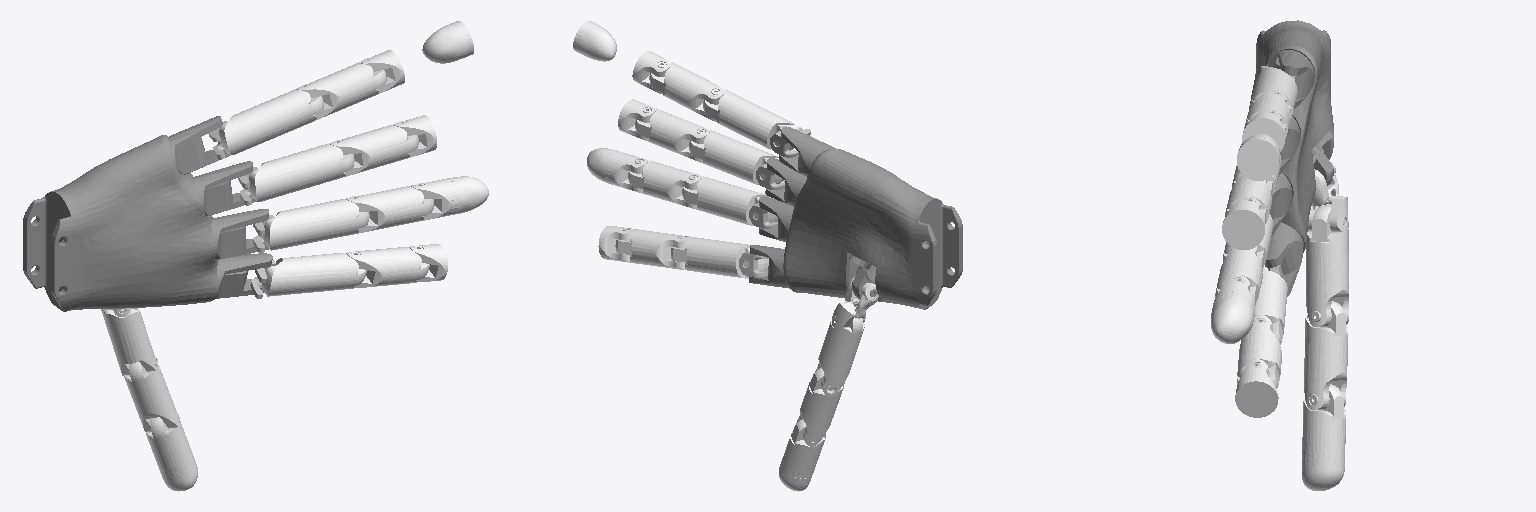
--- Facts derived from the render (not from the file) ---
Views: 3 orthographic renders of the robot side by side, from view 1: azimuth 30°, elevation 25°; view 2: azimuth 150°, elevation 25°; view 3: azimuth 270°, elevation 25°.
Model D5_left_hands_tips with 26 links and 25 joints (20 revolute, 5 fixed), rooted at base_link, posed all joints at 0.
Visible links, largest first — view 1: base_link, PIPMCP_2rd_pinky, PIPMCP_2rd_ring, PIPMCP_2rd_middle, PIPMCP_2rd_index, DIP_pinky, DIP_ring, DIP_middle, DIP_index, CMC_2rd, MCP_thumb, IP_thumb (+7 smaller); view 2: base_link, PIPMCP_2rd_pinky, PIPMCP_2rd_ring, PIPMCP_2rd_index, PIPMCP_2rd_middle, CMC_2rd, DIP_pinky, DIP_ring, DIP_middle, DIP_index, MCP_thumb, fingertip_pinky (+8 smaller); view 3: base_link, CMC_2rd, MCP_thumb, IP_thumb, tipmount_index, DIP_index, fingertip_middle, tipmount_ring, fingertip_pinky, fingertip_thumb, PIPMCP_2rd_index, CMC_joint (+5 smaller).
Link boxes in pixels (bbox=[...]): base_link: bbox=[23, 116, 272, 311]; PIPMCP_2rd_pinky: bbox=[219, 89, 323, 154]; PIPMCP_2rd_ring: bbox=[249, 144, 354, 201]; PIPMCP_2rd_middle: bbox=[263, 199, 369, 250]; PIPMCP_2rd_index: bbox=[262, 253, 366, 296]; DIP_pinky: bbox=[296, 63, 386, 120]; DIP_ring: bbox=[329, 125, 418, 176]; DIP_middle: bbox=[346, 186, 433, 233]; DIP_index: bbox=[346, 247, 429, 287]; CMC_2rd: bbox=[101, 308, 157, 375]; MCP_thumb: bbox=[124, 357, 180, 431]; IP_thumb: bbox=[146, 413, 191, 468]; base_link: bbox=[749, 126, 962, 309]; PIPMCP_2rd_pinky: bbox=[703, 89, 802, 150]; PIPMCP_2rd_ring: bbox=[689, 130, 783, 184]; PIPMCP_2rd_index: bbox=[671, 237, 768, 278]; PIPMCP_2rd_middle: bbox=[682, 176, 777, 225]; CMC_2rd: bbox=[815, 316, 864, 395]; DIP_pinky: bbox=[649, 62, 723, 121]; DIP_ring: bbox=[635, 108, 709, 162]; DIP_middle: bbox=[628, 160, 701, 209]; DIP_index: bbox=[615, 229, 689, 269]; MCP_thumb: bbox=[797, 368, 844, 446]; fingertip_pinky: bbox=[573, 21, 616, 61]; base_link: bbox=[1249, 20, 1333, 296]; CMC_2rd: bbox=[1306, 205, 1348, 326]; MCP_thumb: bbox=[1304, 301, 1347, 410]; IP_thumb: bbox=[1302, 384, 1345, 452]; tipmount_index: bbox=[1235, 359, 1278, 417]; DIP_index: bbox=[1237, 315, 1281, 388]; fingertip_middle: bbox=[1211, 292, 1254, 343]; tipmount_ring: bbox=[1222, 196, 1264, 249]; fingertip_pinky: bbox=[1237, 134, 1279, 180]; fingertip_thumb: bbox=[1302, 451, 1344, 490]; PIPMCP_2rd_index: bbox=[1255, 266, 1287, 344]; CMC_joint: bbox=[1308, 160, 1348, 231].
Bounding box of the posed robot: 0.1963 × 0.048 × 0.1903 m (x, y, z).
Meshes: 26 distinct files referenced, 24 mesh visuals loaded (24 binary STL); not drawn: 2 (reference not matched to a file when rendering).

The robot description file, URDF, robot "D5_left_hands_tips":
<?xml version="1.0" encoding="utf-8"?>
<!-- This URDF was automatically created by SolidWorks to URDF Exporter! Originally created by Stephen Brawner ([email redacted]) 
     Commit Version: 1.6.0-4-g7f85cfe  Build Version: 1.6.7995.38578
     For more information, please see http://wiki.ros.org/sw_urdf_exporter -->
<robot
  name="D5_left_hands_tips">
  <link
    name="base_link">
    <inertial>
      <origin
        xyz="0.0362815208782069 -0.00305526336798289 -0.000126521740145622"
        rpy="0 0 0" />
      <mass
        value="0.100729267699622" />
      <inertia
        ixx="3.4902559468521E-05"
        ixy="3.96108132401248E-06"
        ixz="3.90580885663322E-06"
        iyy="8.05745954287177E-05"
        iyz="-1.48906206110741E-06"
        izz="5.43169882491714E-05" />
    </inertial>
    <visual>
      <origin
        xyz="0 0 0"
        rpy="0 0 0" />
      <geometry>
        <mesh
          filename="meshes/base_link.STL" />
      </geometry>
      <material
        name="">
        <color
          rgba="0.627450980392157 0.627450980392157 0.627450980392157 1" />
      </material>
    </visual>
    <collision>
      <origin
        xyz="0 0 0"
        rpy="0 0 0" />
      <geometry>
        <mesh
          filename="meshes/base_link.STL" />
      </geometry>
    </collision>
  </link>
  <link
    name="CMC_joint">
    <inertial>
      <origin
        xyz="0.00771280035472914 -0.00202188987758286 0.00202035726169397"
        rpy="0 0 0" />
      <mass
        value="0.00125815886507591" />
      <inertia
        ixx="3.83821369264559E-08"
        ixy="3.28880830342143E-09"
        ixz="-1.0096366741834E-08"
        iyy="6.90654218569032E-08"
        iyz="4.89903077152849E-09"
        izz="6.44064252041759E-08" />
    </inertial>
    <visual>
      <origin
        xyz="0 0 0"
        rpy="0 0 0" />
      <geometry>
        <mesh
          filename="meshes/CMC_joint.STL" />
      </geometry>
      <material
        name="">
        <color
          rgba="0.96078431372549 0.96078431372549 0.964705882352941 1" />
      </material>
    </visual>
    <collision>
      <origin
        xyz="0 0 0"
        rpy="0 0 0" />
      <geometry>
        <mesh
          filename="meshes/CMC_joint.STL" />
      </geometry>
    </collision>
  </link>
  <joint
    name="F1J1"
    type="revolute">
    <origin
      xyz="0.028712 0.0085244 -0.020575"
      rpy="1.5708 0.89647 1.2039" />
    <parent
      link="base_link" />
    <child
      link="CMC_joint" />
    <axis
      xyz="0 0.090031 -0.99594" />
    <limit
      lower="-1.83"
      upper="0.52"
      effort="10000"
      velocity="10000" />
  </joint>
  <link
    name="CMC_2rd">
    <inertial>
      <origin
        xyz="0.0134227843587859 -0.00293695006906855 -0.0066136566216464"
        rpy="0 0 0" />
      <mass
        value="0.00526832309670019" />
      <inertia
        ixx="1.98050588059674E-07"
        ixy="-2.05321303906682E-09"
        ixz="1.3634716164521E-07"
        iyy="5.57537669280275E-07"
        iyz="5.1049690269548E-09"
        izz="4.9078792338695E-07" />
    </inertial>
    <visual>
      <origin
        xyz="0 0 0"
        rpy="0 0 0" />
      <geometry>
        <mesh
          filename="meshes/CMC_2rd.STL" />
      </geometry>
      <material
        name="">
        <color
          rgba="0.96078431372549 0.96078431372549 0.964705882352941 1" />
      </material>
    </visual>
    <collision>
      <origin
        xyz="0 0 0"
        rpy="0 0 0" />
      <geometry>
        <mesh
          filename="meshes/CMC_2rd.STL" />
      </geometry>
    </collision>
  </link>
  <joint
    name="F1J2"
    type="revolute">
    <origin
      xyz="0.0156801041480007 -0.00266138390252596 0.00541134550383846"
      rpy="0.00909459878463471 -0.660505072285366 -0.556810887711753" />
    <parent
      link="CMC_joint" />
    <child
      link="CMC_2rd" />
    <axis
      xyz="0 -1 0" />
    <limit
      lower="-0.52"
      upper="1.83"
      effort="10000"
      velocity="10000" />
  </joint>
  <link
    name="MCP_thumb">
    <inertial>
      <origin
        xyz="0.012784040671115 -0.00137015992859594 1.61315218326942E-05"
        rpy="0 0 0" />
      <mass
        value="0.00451783539729189" />
      <inertia
        ixx="1.22995967486248E-07"
        ixy="-9.44472915785571E-10"
        ixz="3.59348384900288E-10"
        iyy="3.89453067833898E-07"
        iyz="-1.8018016259836E-11"
        izz="3.80195847856636E-07" />
    </inertial>
    <visual>
      <origin
        xyz="0 0 0"
        rpy="0 0 0" />
      <geometry>
        <mesh
          filename="meshes/MCP_thumb.STL" />
      </geometry>
      <material
        name="">
        <color
          rgba="0.96078431372549 0.96078431372549 0.964705882352941 1" />
      </material>
    </visual>
    <collision>
      <origin
        xyz="0 0 0"
        rpy="0 0 0" />
      <geometry>
        <mesh
          filename="meshes/MCP_thumb.STL" />
      </geometry>
    </collision>
  </link>
  <joint
    name="F1J3"
    type="revolute">
    <origin
      xyz="0.0307049994928983 -0.00195849650384492 -0.0125392357745206"
      rpy="0.338193019740776 0.327653658937842 7.00736436970164E-05" />
    <parent
      link="CMC_2rd" />
    <child
      link="MCP_thumb" />
    <axis
      xyz="0 0 1" />
    <limit
      lower="-0.52"
      upper="1.83"
      effort="10000"
      velocity="10000" />
  </joint>
  <link
    name="IP_thumb">
    <inertial>
      <origin
        xyz="0.00873337128119034 -0.00118432449167151 -0.000236666773561878"
        rpy="0 0 0" />
      <mass
        value="0.0032445920385937" />
      <inertia
        ixx="8.4530787773776E-08"
        ixy="-2.22176257496944E-09"
        ixz="3.79594409890328E-10"
        iyy="1.53933453096968E-07"
        iyz="-5.37818856246564E-11"
        izz="1.57557362953359E-07" />
    </inertial>
    <visual>
      <origin
        xyz="0 0 0"
        rpy="0 0 0" />
      <geometry>
        <mesh
          filename="meshes/IP_thumb.STL" />
      </geometry>
      <material
        name="">
        <color
          rgba="0.96078431372549 0.96078431372549 0.964705882352941 1" />
      </material>
    </visual>
    <collision>
      <origin
        xyz="0 0 0"
        rpy="0 0 0" />
      <geometry>
        <mesh
          filename="meshes/IP_thumb.STL" />
      </geometry>
    </collision>
  </link>
  <joint
    name="F1J4"
    type="revolute">
    <origin
      xyz="0.0289946553564472 -0.000556723643987275 0.000250000742295495"
      rpy="0 0 -0.0191986217719388" />
    <parent
      link="MCP_thumb" />
    <child
      link="IP_thumb" />
    <axis
      xyz="0 0 1" />
    <limit
      lower="-0.52"
      upper="1.83"
      effort="10000"
      velocity="10000" />
  </joint>
  <link
    name="fingertip_thumb">
    <inertial>
      <origin
        xyz="-0.00660492594545073 -0.000291631263215519 -7.94781276167167E-06"
        rpy="0 0 0" />
      <mass
        value="0.00148518348317791" />
      <inertia
        ixx="3.70404843529793E-08"
        ixy="1.46330198216046E-09"
        ixz="-1.283566783338E-12"
        iyy="2.95488459076666E-08"
        iyz="-1.95685541571452E-13"
        izz="2.91781657468038E-08" />
    </inertial>
    <visual>
      <origin
        xyz="0 0 0"
        rpy="0 0 0" />
      <geometry>
        <mesh
          filename="meshes/fingertip_thumb.STL" />
      </geometry>
      <material
        name="">
        <color
          rgba="0.96078431372549 0.96078431372549 0.964705882352941 1" />
      </material>
    </visual>
    <collision>
      <origin
        xyz="0 0 0"
        rpy="0 0 0" />
      <geometry>
        <mesh
          filename="meshes/fingertip_thumb.STL" />
      </geometry>
    </collision>
  </link>
  <joint
    name="thumb_fingertip_fixed"
    type="fixed">
    <origin
      xyz="0.0292999997200636 -0.0010500018784308 -0.00025000011216555"
      rpy="0 0 0" />
    <parent
      link="IP_thumb" />
    <child
      link="fingertip_thumb" />
    <axis
      xyz="0 0 0" />
  </joint>
  <link
    name="MCP_joint_index">
    <inertial>
      <origin
        xyz="0.000320024323269191 -0.00132924326308777 3.05219430667136E-08"
        rpy="0 0 0" />
      <mass
        value="0.000379021582234346" />
      <inertia
        ixx="9.06820086814754E-09"
        ixy="-2.97884399301505E-09"
        ixz="-5.56403391714656E-14"
        iyy="9.76743833722641E-09"
        iyz="-3.4224766046932E-14"
        izz="8.49893777249095E-09" />
    </inertial>
    <visual>
      <origin
        xyz="0 0 0"
        rpy="0 0 0" />
      <geometry>
        <mesh
          filename="meshes/MCP_joint_index.STL" />
      </geometry>
      <material
        name="">
        <color
          rgba="0.796078431372549 0.796078431372549 0.796078431372549 1" />
      </material>
    </visual>
    <collision>
      <origin
        xyz="0 0 0"
        rpy="0 0 0" />
      <geometry>
        <mesh
          filename="meshes/MCP_joint_index.STL" />
      </geometry>
    </collision>
  </link>
  <joint
    name="F2J1"
    type="revolute">
    <origin
      xyz="0.091917 -0.0058701 -0.029434"
      rpy="0.21936 0.12347 -0.045393" />
    <parent
      link="base_link" />
    <child
      link="MCP_joint_index" />
    <axis
      xyz="0 0 -1" />
    <limit
      lower="-1.83"
      upper="0.52"
      effort="10000"
      velocity="10000" />
  </joint>
  <link
    name="PIPMCP_2rd_index">
    <inertial>
      <origin
        xyz="0.0174056341192974 -0.00607488621296758 7.02776518017936E-06"
        rpy="0 0 0" />
      <mass
        value="0.0065798714493092" />
      <inertia
        ixx="1.74652029779334E-07"
        ixy="-3.15692899359248E-08"
        ixz="-2.88427889362968E-10"
        iyy="9.45057757859522E-07"
        iyz="-1.65971648002229E-11"
        izz="9.50285944543775E-07" />
    </inertial>
    <visual>
      <origin
        xyz="0 0 0"
        rpy="0 0 0" />
      <geometry>
        <mesh
          filename="meshes/PIPMCP_2rd_index.STL" />
      </geometry>
      <material
        name="">
        <color
          rgba="0.96078431372549 0.96078431372549 0.964705882352941 1" />
      </material>
    </visual>
    <collision>
      <origin
        xyz="0 0 0"
        rpy="0 0 0" />
      <geometry>
        <mesh
          filename="meshes/PIPMCP_2rd_index.STL" />
      </geometry>
    </collision>
  </link>
  <joint
    name="F2J2"
    type="revolute">
    <origin
      xyz="0.00400000572579264 0.00220000016530783 0"
      rpy="0 0 0" />
    <parent
      link="MCP_joint_index" />
    <child
      link="PIPMCP_2rd_index" />
    <axis
      xyz="0 1 0" />
    <limit
      lower="-0.52"
      upper="0.52"
      effort="10000"
      velocity="10000" />
  </joint>
  <link
    name="DIP_index">
    <inertial>
      <origin
        xyz="0.0155093876252296 -0.00112279149412702 4.73871087898828E-06"
        rpy="0 0 0" />
      <mass
        value="0.00450885571504308" />
      <inertia
        ixx="1.2297817422711E-07"
        ixy="9.51788585338055E-09"
        ixz="3.42331455507894E-10"
        iyy="3.97109387856124E-07"
        iyz="-5.9649474143192E-12"
        izz="3.87914753042892E-07" />
    </inertial>
    <visual>
      <origin
        xyz="0 0 0"
        rpy="0 0 0" />
      <geometry>
        <mesh
          filename="meshes/DIP_index.STL" />
      </geometry>
      <material
        name="">
        <color
          rgba="0.96078431372549 0.96078431372549 0.964705882352941 1" />
      </material>
    </visual>
    <collision>
      <origin
        xyz="0 0 0"
        rpy="0 0 0" />
      <geometry>
        <mesh
          filename="meshes/DIP_index.STL" />
      </geometry>
    </collision>
  </link>
  <joint
    name="F2J3"
    type="revolute">
    <origin
      xyz="0.0366176824738117 -0.00460000000550348 1.55808514895779E-05"
      rpy="0 -0.000433200557107903 0" />
    <parent
      link="PIPMCP_2rd_index" />
    <child
      link="DIP_index" />
    <axis
      xyz="0 0 1" />
    <limit
      lower="-0.52"
      upper="1.83"
      effort="10000"
      velocity="10000" />
  </joint>
  <link
    name="tipmount_index">
    <inertial>
      <origin
        xyz="0.00535172173910373 -0.000894361980526524 1.709274354093E-05"
        rpy="0 0 0" />
      <mass
        value="0.00137453206176538" />
      <inertia
        ixx="4.05616482028119E-08"
        ixy="1.59320650995783E-09"
        ixz="8.5335049239463E-11"
        iyy="4.97884092426478E-08"
        iyz="8.75917720638794E-12"
        izz="3.51131324465948E-08" />
    </inertial>
    <visual>
      <origin
        xyz="0 0 0"
        rpy="0 0 0" />
      <geometry>
        <mesh
          filename="meshes/tipmount_index.STL" />
      </geometry>
      <material
        name="">
        <color
          rgba="0.96078431372549 0.96078431372549 0.964705882352941 1" />
      </material>
    </visual>
    <collision>
      <origin
        xyz="0 0 0"
        rpy="0 0 0" />
      <geometry>
        <mesh
          filename="meshes/tipmount_index.STL" />
      </geometry>
    </collision>
  </link>
  <joint
    name="F2J4"
    type="revolute">
    <origin
      xyz="0.0290000000150085 0 0"
      rpy="-0.000268594994179294 0 0" />
    <parent
      link="DIP_index" />
    <child
      link="tipmount_index" />
    <axis
      xyz="0 0 1" />
    <limit
      lower="-0.52"
      upper="1.83"
      effort="10000"
      velocity="10000" />
  </joint>
  <link
    name="fingertip_index">
    <inertial>
      <origin
        xyz="-0.00986639138529638 -0.000242750774076653 -4.82068053250795E-06"
        rpy="0 0 0" />
      <mass
        value="0.00199520857998784" />
      <inertia
        ixx="4.72377350143709E-08"
        ixy="2.39156602166441E-09"
        ixz="-1.72877055570582E-11"
        iyy="5.39278814638551E-08"
        iyz="-7.85413952587953E-13"
        izz="5.31224453589218E-08" />
    </inertial>
    <visual>
      <origin
        xyz="0 0 0"
        rpy="0 0 0" />
      <geometry>
        <mesh
          filename="meshes/fingertip_index.STL" />
      </geometry>
      <material
        name="">
        <color
          rgba="0.96078431372549 0.96078431372549 0.964705882352941 1" />
      </material>
    </visual>
    <collision>
      <origin
        xyz="0 0 0"
        rpy="0 0 0" />
      <geometry>
        <mesh
          filename="meshes/fingertip_index.STL" />
      </geometry>
    </collision>
  </link>
  <joint
    name="index_fingertip_fixed"
    type="fixed">
    <origin
      xyz="0.0267000002264318 -0.0010499955002608 0"
      rpy="0 0 0" />
    <parent
      link="tipmount_index" />
    <child
      link="fingertip_index" />
    <axis
      xyz="0 0 0" />
  </joint>
  <link
    name="MCP_joint_middle">
    <inertial>
      <origin
        xyz="0.000319986350409071 -0.00132924958737377 2.41436030326211E-08"
        rpy="0 0 0" />
      <mass
        value="0.000379026825427152" />
      <inertia
        ixx="9.06823649030907E-09"
        ixy="-2.97885673320744E-09"
        ixz="-7.9269474595874E-14"
        iyy="9.76751656991403E-09"
        iyz="-5.00496104766637E-14"
        izz="8.49899351459871E-09" />
    </inertial>
    <visual>
      <origin
        xyz="0 0 0"
        rpy="0 0 0" />
      <geometry>
        <mesh
          filename="meshes/MCP_joint_middle.STL" />
      </geometry>
      <material
        name="">
        <color
          rgba="0.796078431372549 0.796078431372549 0.796078431372549 1" />
      </material>
    </visual>
    <collision>
      <origin
        xyz="0 0 0"
        rpy="0 0 0" />
      <geometry>
        <mesh
          filename="meshes/MCP_joint_middle.STL" />
      </geometry>
    </collision>
  </link>
  <joint
    name="F3J1"
    type="revolute">
    <origin
      xyz="0.089544 -0.01046 -0.0074615"
      rpy="-0.00058165 0 -0.087266" />
    <parent
      link="base_link" />
    <child
      link="MCP_joint_middle" />
    <axis
      xyz="0 0 -1" />
    <limit
      lower="-1.83"
      upper="0.52"
      effort="10000"
      velocity="10000" />
  </joint>
  <link
    name="PIPMCP_2rd_middle">
    <inertial>
      <origin
        xyz="0.017405634254962 -0.00607488447673402 7.02701865625162E-06"
        rpy="0 0 0" />
      <mass
        value="0.00657987204705455" />
      <inertia
        ixx="1.74652044364056E-07"
        ixy="-3.15693164973253E-08"
        ixz="-2.8842944594201E-10"
        iyy="9.45057745875992E-07"
        iyz="-1.65915047715384E-11"
        izz="9.50286006692986E-07" />
    </inertial>
    <visual>
      <origin
        xyz="0 0 0"
        rpy="0 0 0" />
      <geometry>
        <mesh
          filename="meshes/PIPMCP_2rd_middle.STL" />
      </geometry>
      <material
        name="">
        <color
          rgba="0.96078431372549 0.96078431372549 0.964705882352941 1" />
      </material>
    </visual>
    <collision>
      <origin
        xyz="0 0 0"
        rpy="0 0 0" />
      <geometry>
        <mesh
          filename="meshes/PIPMCP_2rd_middle.STL" />
      </geometry>
    </collision>
  </link>
  <joint
    name="F3J2"
    type="revolute">
    <origin
      xyz="0.00400000560823636 0.00220000049330733 0"
      rpy="0 0 0" />
    <parent
      link="MCP_joint_middle" />
    <child
      link="PIPMCP_2rd_middle" />
    <axis
      xyz="0 1 0" />
    <limit
      lower="-0.52"
      upper="0.52"
      effort="10000"
      velocity="10000" />
  </joint>
  <link
    name="DIP_middle">
    <inertial>
      <origin
        xyz="0.0155093917112812 -0.00112279212179544 4.71777875747214E-06"
        rpy="0 0 0" />
      <mass
        value="0.00450884844458269" />
      <inertia
        ixx="1.22978069360183E-07"
        ixy="9.51784746959968E-09"
        ixz="3.42065402219612E-10"
        iyy="3.97108495091849E-07"
        iyz="-5.43973594143167E-12"
        izz="3.87914531142267E-07" />
    </inertial>
    <visual>
      <origin
        xyz="0 0 0"
        rpy="0 0 0" />
      <geometry>
        <mesh
          filename="meshes/DIP_middle.STL" />
      </geometry>
      <material
        name="">
        <color
          rgba="0.96078431372549 0.96078431372549 0.964705882352941 1" />
      </material>
    </visual>
    <collision>
      <origin
        xyz="0 0 0"
        rpy="0 0 0" />
      <geometry>
        <mesh
          filename="meshes/DIP_middle.STL" />
      </geometry>
    </collision>
  </link>
  <joint
    name="F3J3"
    type="revolute">
    <origin
      xyz="0.0366176824738017 -0.00460000000550421 1.55808781510235E-05"
      rpy="0 -0.000433201285194692 0" />
    <parent
      link="PIPMCP_2rd_middle" />
    <child
      link="DIP_middle" />
    <axis
      xyz="0 0 1" />
    <limit
      lower="-0.52"
      upper="1.83"
      effort="10000"
      velocity="10000" />
  </joint>
  <link
    name="tipmount_middle">
    <inertial>
      <origin
        xyz="0.00535172960391572 -0.00089434552722965 1.70773977869673E-05"
        rpy="0 0 0" />
      <mass
        value="0.00137452683281243" />
      <inertia
        ixx="4.0561561166526E-08"
        ixy="1.59325841638968E-09"
        ixz="8.52681959354703E-11"
        iyy="4.97880647059069E-08"
        iyz="8.78173656037216E-12"
        izz="3.51132407934686E-08" />
    </inertial>
    <visual>
      <origin
        xyz="0 0 0"
        rpy="0 0 0" />
      <geometry>
        <mesh
          filename="meshes/tipmount_middle.STL" />
      </geometry>
      <material
        name="">
        <color
          rgba="0.96078431372549 0.96078431372549 0.964705882352941 1" />
      </material>
    </visual>
    <collision>
      <origin
        xyz="0 0 0"
        rpy="0 0 0" />
      <geometry>
        <mesh
          filename="meshes/tipmount_middle.STL" />
      </geometry>
    </collision>
  </link>
  <joint
    name="F3J4"
    type="revolute">
    <origin
      xyz="0.0290000000150071 0 0"
      rpy="-0.000268594994177509 0 0" />
    <parent
      link="DIP_middle" />
    <child
      link="tipmount_middle" />
    <axis
      xyz="0 0 1" />
    <limit
      lower="-0.52"
      upper="1.83"
      effort="10000"
      velocity="10000" />
  </joint>
  <link
    name="fingertip_middle">
    <inertial>
      <origin
        xyz="-0.00986638415061339 -0.000242762621946037 -4.82398858185889E-06"
        rpy="0 0 0" />
      <mass
        value="0.00199520868179549" />
      <inertia
        ixx="4.72376604361932E-08"
        ixy="2.39144437050356E-09"
        ixz="-1.72656941865841E-11"
        iyy="5.39280648259913E-08"
        iyz="-9.82808315724431E-13"
        izz="5.31222340467544E-08" />
    </inertial>
    <visual>
      <origin
        xyz="0 0 0"
        rpy="0 0 0" />
      <geometry>
        <mesh
          filename="meshes/fingertip_middle.STL" />
      </geometry>
      <material
        name="">
        <color
          rgba="0.96078431372549 0.96078431372549 0.964705882352941 1" />
      </material>
    </visual>
    <collision>
      <origin
        xyz="0 0 0"
        rpy="0 0 0" />
      <geometry>
        <mesh
          filename="meshes/fingertip_middle.STL" />
      </geometry>
    </collision>
  </link>
  <joint
    name="fingertip_middle_fixed"
    type="fixed">
    <origin
      xyz="0.0267000010616325 -0.00104999547345504 0"
      rpy="0 0 0" />
    <parent
      link="tipmount_middle" />
    <child
      link="fingertip_middle" />
    <axis
      xyz="0 0 0" />
  </joint>
  <link
    name="MCP_joint_ring">
    <inertial>
      <origin
        xyz="0.000319960677166622 -0.00132925397149832 2.57133864955614E-08"
        rpy="0 0 0" />
      <mass
        value="0.000379026204455411" />
      <inertia
        ixx="9.06825291146777E-09"
        ixy="-2.97881935640177E-09"
        ixz="-4.78144611055323E-14"
        iyy="9.76753219707763E-09"
        iyz="-5.37127295810677E-14"
        izz="8.49897979117048E-09" />
    </inertial>
    <visual>
      <origin
        xyz="0 0 0"
        rpy="0 0 0" />
      <geometry>
        <mesh
          filename="meshes/MCP_joint_ring.STL" />
      </geometry>
      <material
        name="">
        <color
          rgba="0.796078431372549 0.796078431372549 0.796078431372549 1" />
      </material>
    </visual>
    <collision>
      <origin
        xyz="0 0 0"
        rpy="0 0 0" />
      <geometry>
        <mesh
          filename="meshes/MCP_joint_ring.STL" />
      </geometry>
    </collision>
  </link>
  <joint
    name="F4J1"
    type="revolute">
    <origin
      xyz="0.084429 -0.0076649 0.013712"
      rpy="-0.047114 -0.094229 -0.0797" />
    <parent
      link="base_link" />
    <child
      link="MCP_joint_ring" />
    <axis
      xyz="0 0 -1" />
    <limit
      lower="-1.83"
      upper="0.52"
      effort="10000"
      velocity="10000" />
  </joint>
  <link
    name="PIPMCP_2rd_ring">
    <inertial>
      <origin
        xyz="0.0174056342995169 -0.00607488359054905 7.02601056434653E-06"
        rpy="0 0 0" />
      <mass
        value="0.00657987225782532" />
      <inertia
        ixx="1.74652053683318E-07"
        ixy="-3.15693222248458E-08"
        ixz="-2.8842784020541E-10"
        iyy="9.45057725633792E-07"
        iyz="-1.6576668004238E-11"
        izz="9.50286023643674E-07" />
    </inertial>
    <visual>
      <origin
        xyz="0 0 0"
        rpy="0 0 0" />
      <geometry>
        <mesh
          filename="meshes/PIPMCP_2rd_ring.STL" />
      </geometry>
      <material
        name="">
        <color
          rgba="0.96078431372549 0.96078431372549 0.964705882352941 1" />
      </material>
    </visual>
    <collision>
      <origin
        xyz="0 0 0"
        rpy="0 0 0" />
      <geometry>
        <mesh
          filename="meshes/PIPMCP_2rd_ring.STL" />
      </geometry>
    </collision>
  </link>
  <joint
    name="F4J2"
    type="revolute">
    <origin
      xyz="0.00400000548151012 0.00220000053062528 0"
      rpy="0 0 0" />
    <parent
      link="MCP_joint_ring" />
    <child
      link="PIPMCP_2rd_ring" />
    <axis
      xyz="0 1 0" />
    <limit
      lower="-0.52"
      upper="0.52"
      effort="10000"
      velocity="10000" />
  </joint>
  <link
    name="DIP_ring">
    <inertial>
      <origin
        xyz="0.0155093957368996 -0.0011227969571836 4.70350204879316E-06"
        rpy="0 0 0" />
      <mass
        value="0.00450884675245649" />
      <inertia
        ixx="1.22978054905699E-07"
        ixy="9.51770038674907E-09"
        ixz="3.41917671896895E-10"
        iyy="3.97108270279426E-07"
        iyz="-5.00135077720577E-12"
        izz="3.8791441467927E-07" />
    </inertial>
    <visual>
      <origin
        xyz="0 0 0"
        rpy="0 0 0" />
      <geometry>
        <mesh
          filename="meshes/DIP_ring.STL" />
      </geometry>
      <material
        name="">
        <color
          rgba="0.96078431372549 0.96078431372549 0.964705882352941 1" />
      </material>
    </visual>
    <collision>
      <origin
        xyz="0 0 0"
        rpy="0 0 0" />
      <geometry>
        <mesh
          filename="meshes/DIP_ring.STL" />
      </geometry>
    </collision>
  </link>
  <joint
    name="F4J3"
    type="revolute">
    <origin
      xyz="0.0366176824738012 -0.00460000000550289 1.55808781512482E-05"
      rpy="0 -0.000433201285206678 0" />
    <parent
      link="PIPMCP_2rd_ring" />
    <child
      link="DIP_ring" />
    <axis
      xyz="0 0 1" />
    <limit
      lower="-0.52"
      upper="1.83"
      effort="10000"
      velocity="10000" />
  </joint>
  <link
    name="tipmount_ring">
    <inertial>
      <origin
        xyz="0.00535173235445943 -0.000894348808414097 1.7069389990701E-05"
        rpy="0 0 0" />
      <mass
        value="0.00137452695669775" />
      <inertia
        ixx="4.05615633004942E-08"
        ixy="1.59323530973838E-09"
        ixz="8.52395689698931E-11"
        iyy="4.97880285926268E-08"
        iyz="8.86505188161849E-12"
        izz="3.51132053497962E-08" />
    </inertial>
    <visual>
      <origin
        xyz="0 0 0"
        rpy="0 0 0" />
      <geometry>
        <mesh
          filename="meshes/tipmount_ring.STL" />
      </geometry>
      <material
        name="">
        <color
          rgba="0.96078431372549 0.96078431372549 0.964705882352941 1" />
      </material>
    </visual>
    <collision>
      <origin
        xyz="0 0 0"
        rpy="0 0 0" />
      <geometry>
        <mesh
          filename="meshes/tipmount_ring.STL" />
      </geometry>
    </collision>
  </link>
  <joint
    name="F4J4"
    type="revolute">
    <origin
      xyz="0.0290000000150084 0 0"
      rpy="-0.000268594994175708 0 0" />
    <parent
      link="DIP_ring" />
    <child
      link="tipmount_ring" />
    <axis
      xyz="0 0 1" />
    <limit
      lower="-0.52"
      upper="1.83"
      effort="10000"
      velocity="10000" />
  </joint>
  <link
    name="fingertip_ring">
    <inertial>
      <origin
        xyz="-0.0098663267373888 -0.000242706267923 -4.82091869286397E-06"
        rpy="0 0 0" />
      <mass
        value="0.00199522873926076" />
      <inertia
        ixx="4.72378923649954E-08"
        ixy="2.39112347260885E-09"
        ixz="-1.69318647838583E-11"
        iyy="5.39285618453842E-08"
        iyz="-7.45846546849068E-13"
        izz="5.3123587146087E-08" />
    </inertial>
    <visual>
      <origin
        xyz="0 0 0"
        rpy="0 0 0" />
      <geometry>
        <mesh
          filename="meshes/fingertip_ring.STL" />
      </geometry>
      <material
        name="">
        <color
          rgba="0.96078431372549 0.96078431372549 0.964705882352941 1" />
      </material>
    </visual>
    <collision>
      <origin
        xyz="0 0 0"
        rpy="0 0 0" />
      <geometry>
        <mesh
          filename="meshes/fingertip_ring.STL" />
      </geometry>
    </collision>
  </link>
  <joint
    name="fingertip_ring_fixed"
    type="fixed">
    <origin
      xyz="0.0267000011448659 -0.00104999555515978 0"
      rpy="0 0 0" />
    <parent
      link="tipmount_ring" />
    <child
      link="fingertip_ring" />
    <axis
      xyz="0 0 0" />
  </joint>
  <link
    name="MCP_joint_pinky">
    <inertial>
      <origin
        xyz="0.000319922773834733 -0.00132924155689912 -6.66466813334377E-09"
        rpy="0 0 0" />
      <mass
        value="0.000379034855849312" />
      <inertia
        ixx="9.06833111097467E-09"
        ixy="-2.97881956347837E-09"
        ixz="-4.48706536786656E-14"
        iyy="9.76759024262035E-09"
        iyz="-3.81435474295396E-14"
        izz="8.49903482419763E-09" />
    </inertial>
    <visual>
      <origin
        xyz="0 0 0"
        rpy="0 0 0" />
      <geometry>
        <mesh
          filename="meshes/MCP_joint_pinky.STL" />
      </geometry>
      <material
        name="">
        <color
          rgba="0.796078431372549 0.796078431372549 0.796078431372549 1" />
      </material>
    </visual>
    <collision>
      <origin
        xyz="0 0 0"
        rpy="0 0 0" />
      <geometry>
        <mesh
          filename="meshes/MCP_joint_pinky.STL" />
      </geometry>
    </collision>
  </link>
  <joint
    name="F5J1"
    type="revolute">
    <origin
      xyz="0.0742813381412301 -0.00226865106331043 0.0340011106650484"
      rpy="-0.160211605076604 -0.204706760831129 -0.0615785617133367" />
    <parent
      link="base_link" />
    <child
      link="MCP_joint_pinky" />
    <axis
      xyz="0 0 -1" />
    <limit
      lower="-1.83"
      upper="0.52"
      effort="10000"
      velocity="10000" />
  </joint>
  <link
    name="PIPMCP_2rd_pinky">
    <inertial>
      <origin
        xyz="0.0174056345226486 -0.00607488329537797 7.02329250659717E-06"
        rpy="0 0 0" />
      <mass
        value="0.00657987251246869" />
      <inertia
        ixx="1.74652053462057E-07"
        ixy="-3.15693402313911E-08"
        ixz="-2.88426567504417E-10"
        iyy="9.45057745003661E-07"
        iyz="-1.65306405442531E-11"
        izz="9.50286083980873E-07" />
    </inertial>
    <visual>
      <origin
        xyz="0 0 0"
        rpy="0 0 0" />
      <geometry>
        <mesh
          filename="meshes/PIPMCP_2rd_pinky.STL" />
      </geometry>
      <material
        name="">
        <color
          rgba="0.96078431372549 0.96078431372549 0.964705882352941 1" />
      </material>
    </visual>
    <collision>
      <origin
        xyz="0 0 0"
        rpy="0 0 0" />
      <geometry>
        <mesh
          filename="meshes/PIPMCP_2rd_pinky.STL" />
      </geometry>
    </collision>
  </link>
  <joint
    name="F5J2"
    type="revolute">
    <origin
      xyz="0.00400000528145911 0.00220000070138177 0"
      rpy="0 0 0" />
    <parent
      link="MCP_joint_pinky" />
    <child
      link="PIPMCP_2rd_pinky" />
    <axis
      xyz="0 1 0" />
    <limit
      lower="-0.52"
      upper="0.52"
      effort="10000"
      velocity="10000" />
  </joint>
  <link
    name="DIP_pinky">
    <inertial>
      <origin
        xyz="0.0155093953575343 -0.00112280564720763 4.69338845710682E-06"
        rpy="0 0 0" />
      <mass
        value="0.00450884855763706" />
      <inertia
        ixx="1.22978090281348E-07"
        ixy="9.51750156719369E-09"
        ixz="3.41845871850504E-10"
        iyy="3.97108565707349E-07"
        iyz="-4.60054201577679E-12"
        izz="3.87914404323366E-07" />
    </inertial>
    <visual>
      <origin
        xyz="0 0 0"
        rpy="0 0 0" />
      <geometry>
        <mesh
          filename="meshes/DIP_pinky.STL" />
      </geometry>
      <material
        name="">
        <color
          rgba="0.96078431372549 0.96078431372549 0.964705882352941 1" />
      </material>
    </visual>
    <collision>
      <origin
        xyz="0 0 0"
        rpy="0 0 0" />
      <geometry>
        <mesh
          filename="meshes/DIP_pinky.STL" />
      </geometry>
    </collision>
  </link>
  <joint
    name="F5J3"
    type="revolute">
    <origin
      xyz="0.0366176824738007 -0.00460000000550438 1.55808781513132E-05"
      rpy="0 -0.000433201285208329 0" />
    <parent
      link="PIPMCP_2rd_pinky" />
    <child
      link="DIP_pinky" />
    <axis
      xyz="0 0 1" />
    <limit
      lower="-0.5222"
      upper="1.83"
      effort="10000"
      velocity="10000" />
  </joint>
  <link
    name="tipmount_pinky">
    <inertial>
      <origin
        xyz="0.00535172777062043 -0.000894360113421845 1.70694303661227E-05"
        rpy="0 0 0" />
      <mass
        value="0.0013745293575258" />
      <inertia
        ixx="4.05616087527804E-08"
        ixy="1.59319983650447E-09"
        ixz="8.52506161417072E-11"
        iyy="4.97881910919402E-08"
        iyz="8.92752571236296E-12"
        izz="3.51131564904061E-08" />
    </inertial>
    <visual>
      <origin
        xyz="0 0 0"
        rpy="0 0 0" />
      <geometry>
        <mesh
          filename="meshes/tipmount_pinky.STL" />
      </geometry>
      <material
        name="">
        <color
          rgba="0.96078431372549 0.96078431372549 0.964705882352941 1" />
      </material>
    </visual>
    <collision>
      <origin
        xyz="0 0 0"
        rpy="0 0 0" />
      <geometry>
        <mesh
          filename="meshes/tipmount_pinky.STL" />
      </geometry>
    </collision>
  </link>
  <joint
    name="F5J4"
    type="revolute">
    <origin
      xyz="0.0290000000150084 0 0"
      rpy="-0.000268594994171511 0 0" />
    <parent
      link="DIP_pinky" />
    <child
      link="tipmount_pinky" />
    <axis
      xyz="0 0 1" />
    <limit
      lower="-0.52"
      upper="1.83"
      effort="10000"
      velocity="10000" />
  </joint>
  <link
    name="fingertip_pinky">
    <inertial>
      <origin
        xyz="-0.00986632915611516 -0.000242682443680857 -4.80754431400957E-06"
        rpy="0 0 0" />
      <mass
        value="0.00199523206758213" />
      <inertia
        ixx="4.72380714567101E-08"
        ixy="2.39129588797723E-09"
        ixz="-1.68267463601626E-11"
        iyy="5.39284792369565E-08"
        iyz="-5.16379293528115E-13"
        izz="5.31240771235261E-08" />
    </inertial>
    <visual>
      <origin
        xyz="0 0 0"
        rpy="0 0 0" />
      <geometry>
        <mesh
          filename="meshes/fingertip_pinky.STL" />
      </geometry>
      <material
        name="">
        <color
          rgba="0.96078431372549 0.96078431372549 0.964705882352941 1" />
      </material>
    </visual>
    <collision>
      <origin
        xyz="0 0 0"
        rpy="0 0 0" />
      <geometry>
        <mesh
          filename="meshes/fingertip_pinky.STL" />
      </geometry>
    </collision>
  </link>
  <joint
    name="fingertip_pinky_fixed"
    type="fixed">
    <origin
      xyz="0.02670000114824 -0.00104999555977793 0"
      rpy="0 0 0" />
    <parent
      link="tipmount_pinky" />
    <child
      link="fingertip_pinky" />
    <axis
      xyz="0 0 0" />
  </joint>
</robot>
